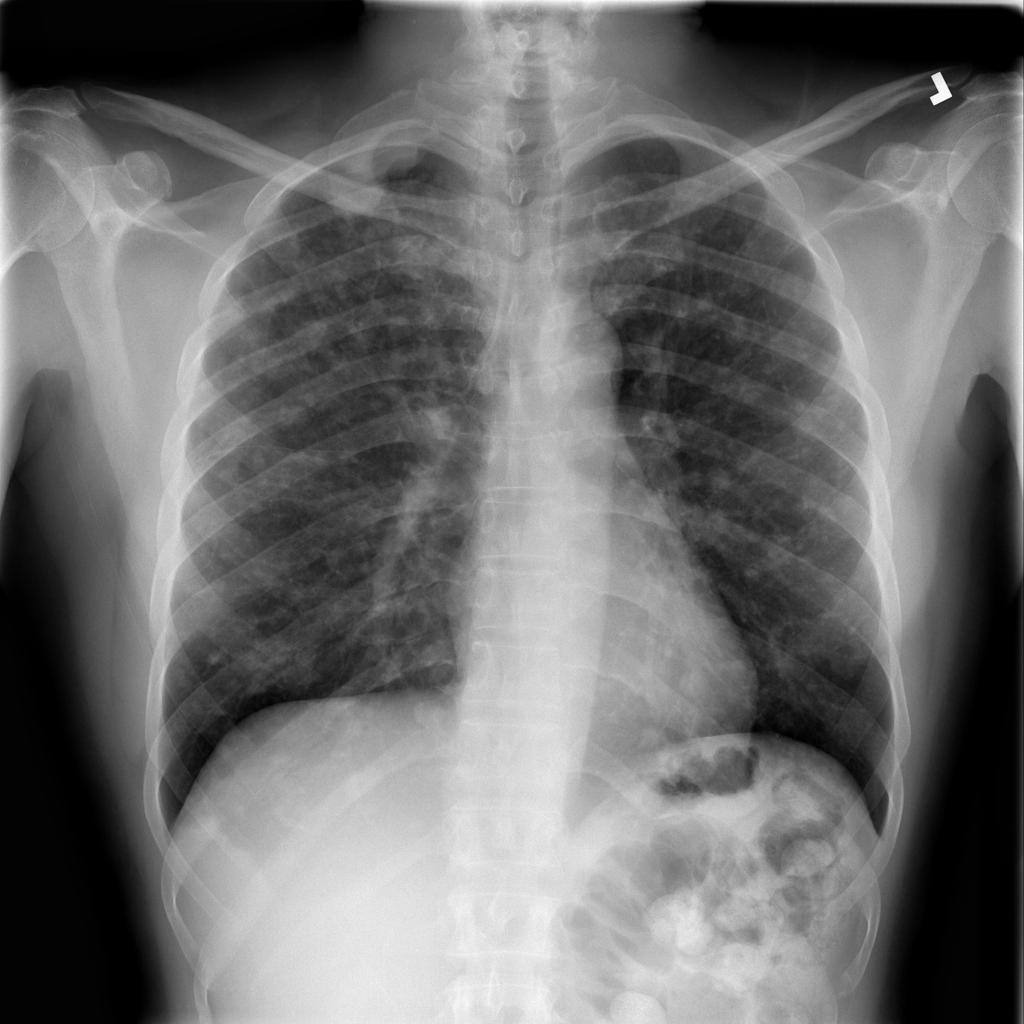nodule: (666, 652, 719, 701)
